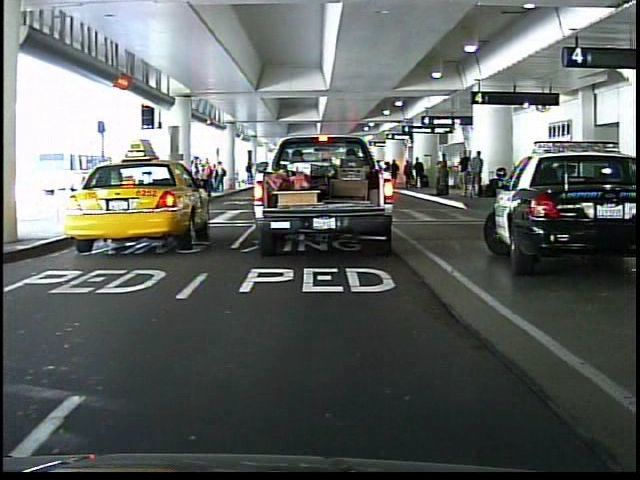person: (272, 147, 301, 223), (334, 144, 358, 207), (244, 159, 257, 187)
